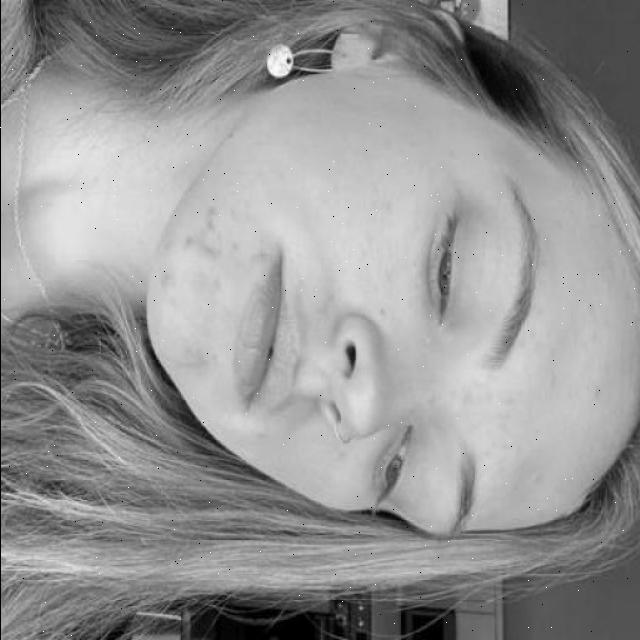Acne: (171, 200, 264, 321)
